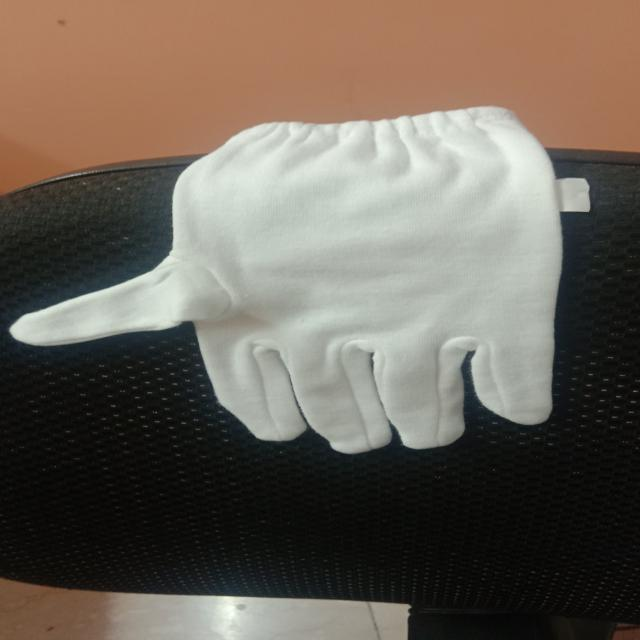glove_hand: (0, 104, 574, 468)
